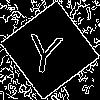Y: (25, 25, 65, 75)
